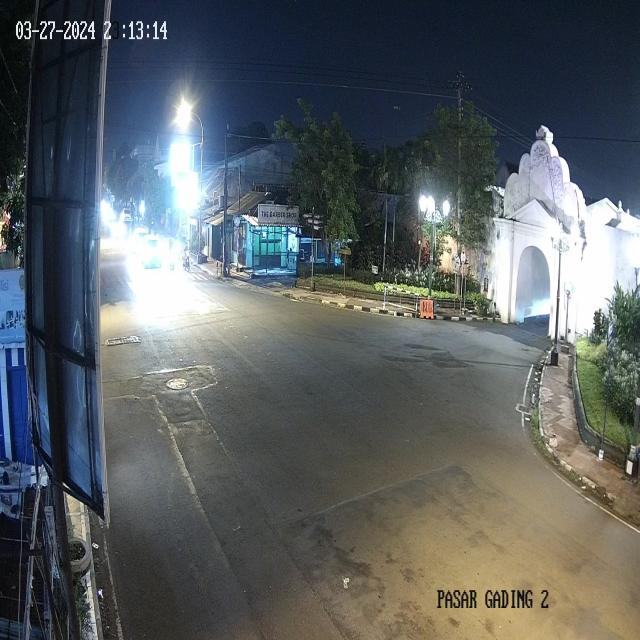car: (142, 232, 163, 270), (131, 222, 148, 260), (121, 205, 132, 222)
motorcycle: (182, 239, 192, 272), (167, 238, 176, 273)
